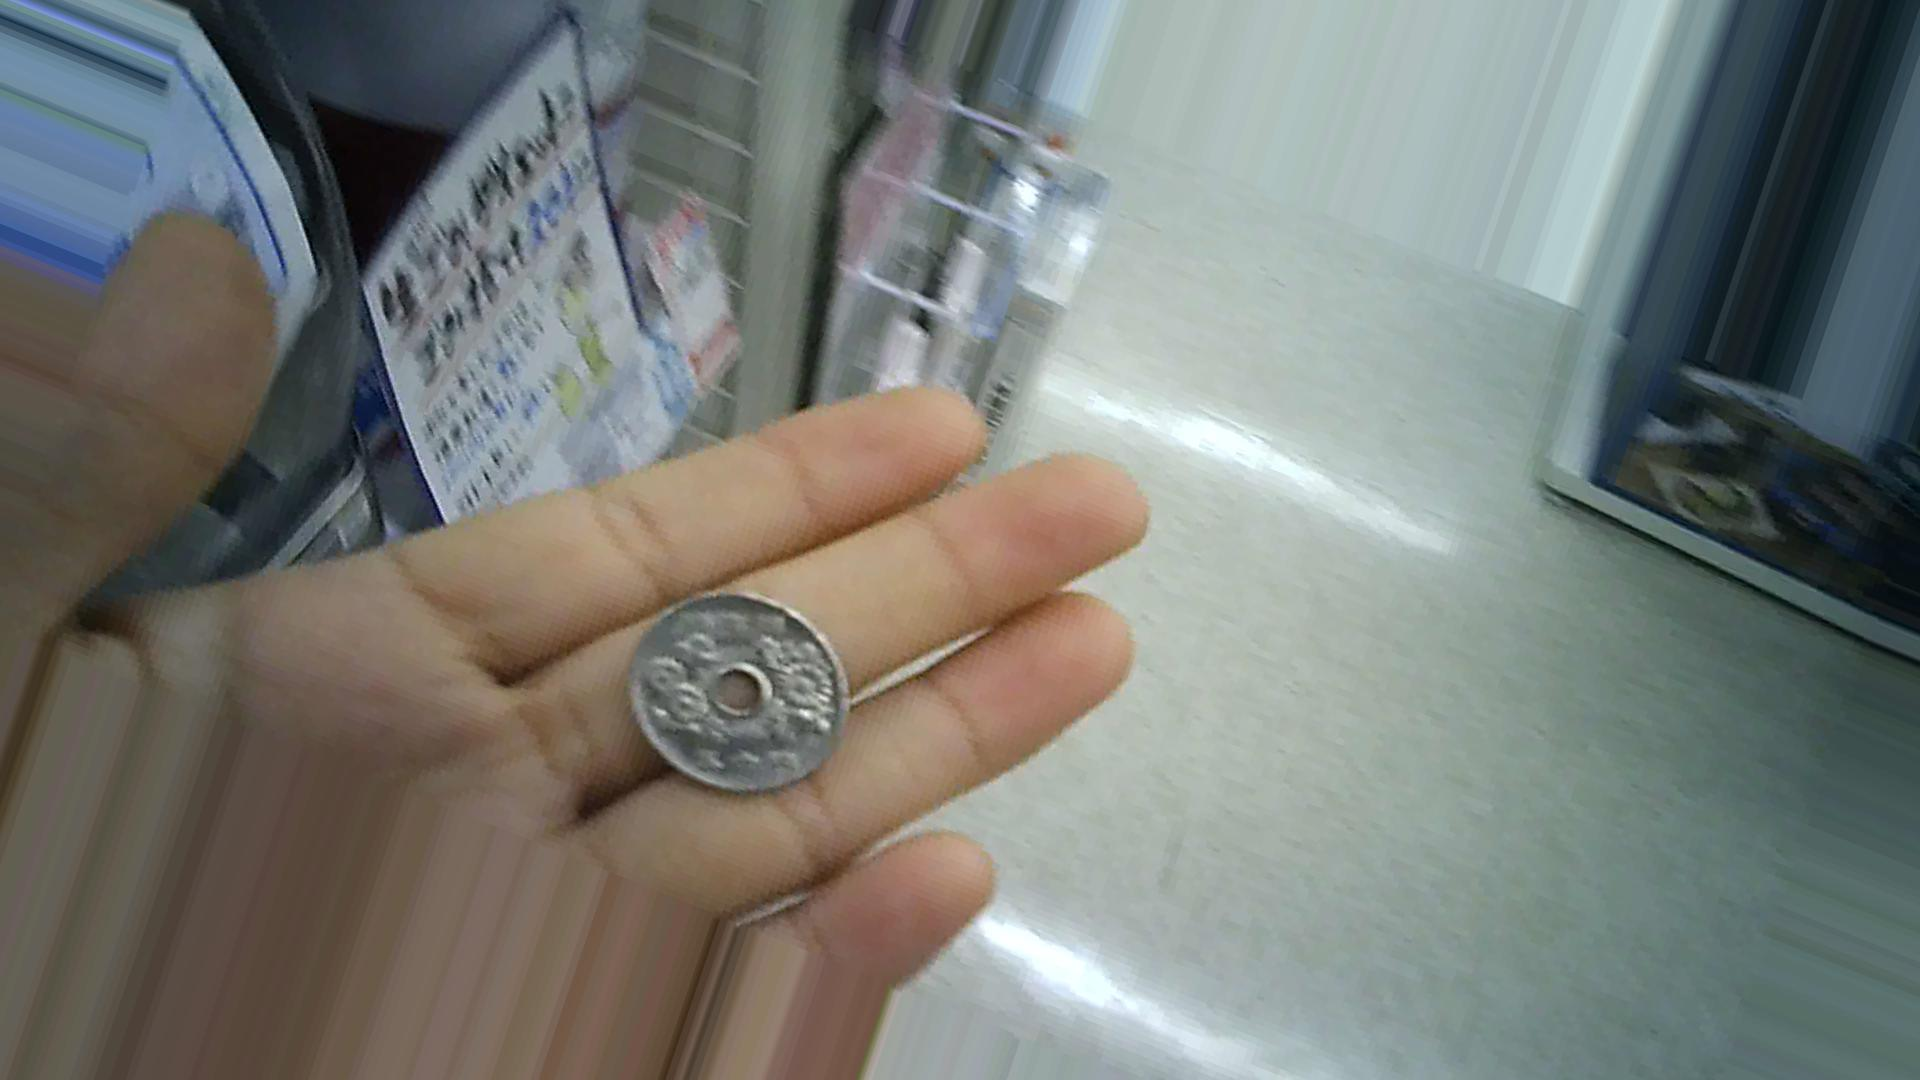50 Yen: (592, 601, 862, 789)
